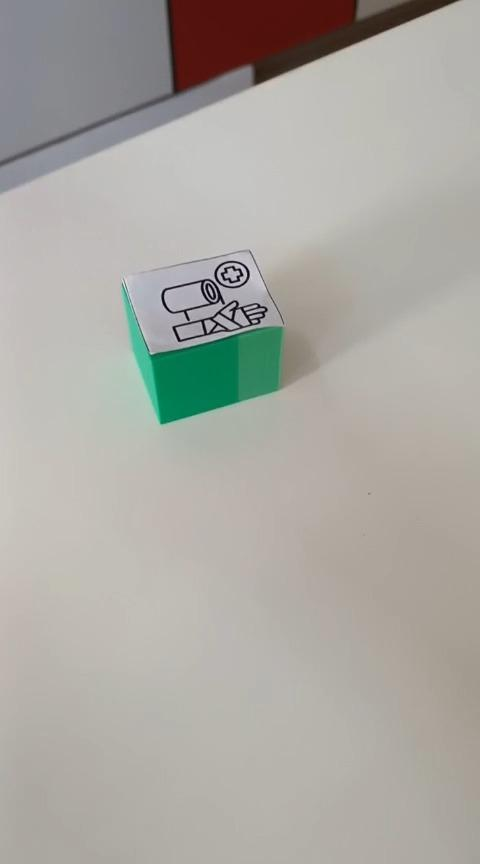Bandages: (120, 247, 285, 425)
